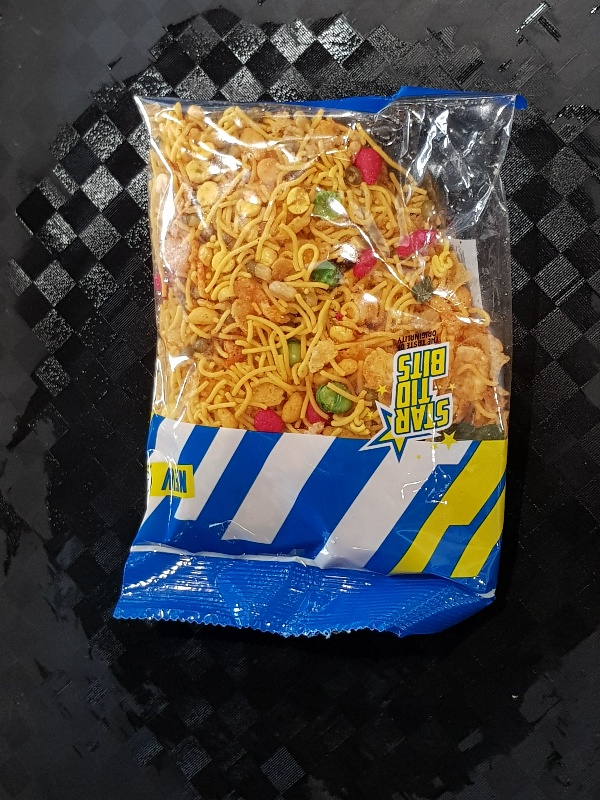Star Tidbits Mixer: (110, 79, 527, 643)
